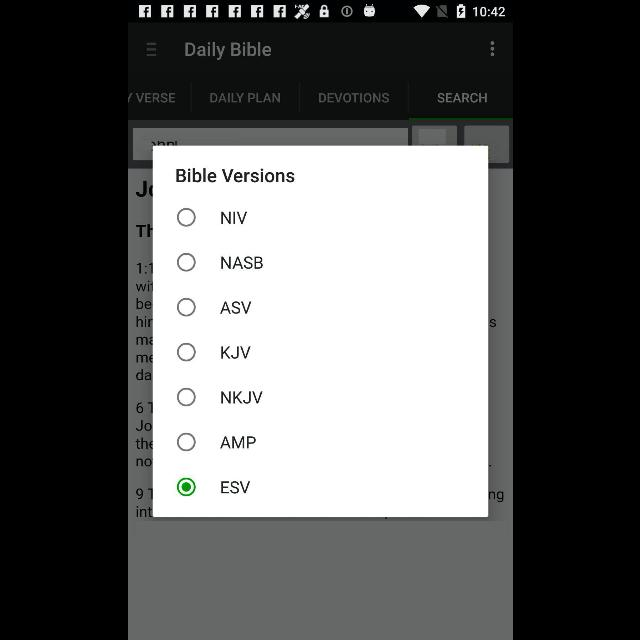checkbox: (177, 298, 196, 316), (177, 388, 196, 406), (177, 433, 196, 451), (176, 208, 194, 226), (176, 253, 194, 271), (176, 342, 194, 360), (176, 478, 194, 496)
icon: (490, 42, 494, 56)
panel: (152, 147, 488, 518)
text: (176, 169, 294, 183), (185, 41, 271, 60), (209, 93, 279, 103), (318, 93, 388, 103), (220, 256, 262, 270), (220, 392, 262, 404), (436, 93, 486, 103), (128, 93, 174, 103), (219, 436, 255, 448), (220, 346, 250, 359), (220, 481, 250, 494), (220, 302, 250, 314), (221, 212, 247, 224)
uppertaskbar: (128, 1, 512, 23)
